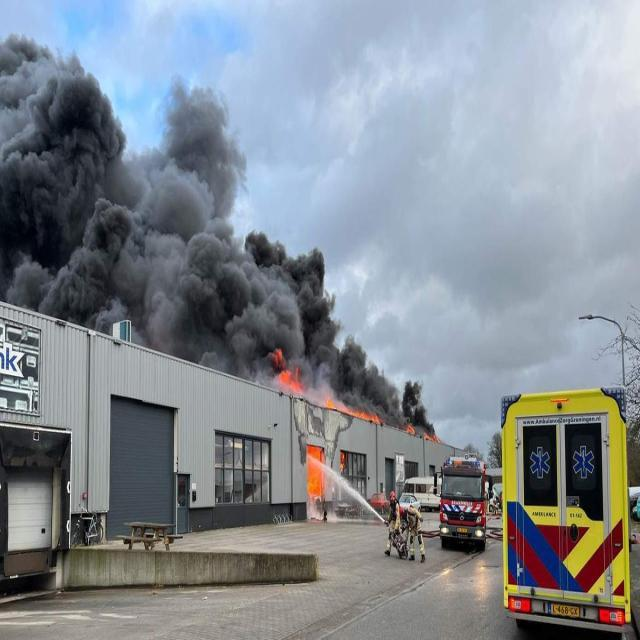Fire: (307, 445, 322, 497), (406, 424, 441, 444), (280, 364, 300, 392), (350, 410, 380, 425), (326, 396, 336, 409), (340, 452, 344, 470)
Smoke: (0, 30, 437, 444)
